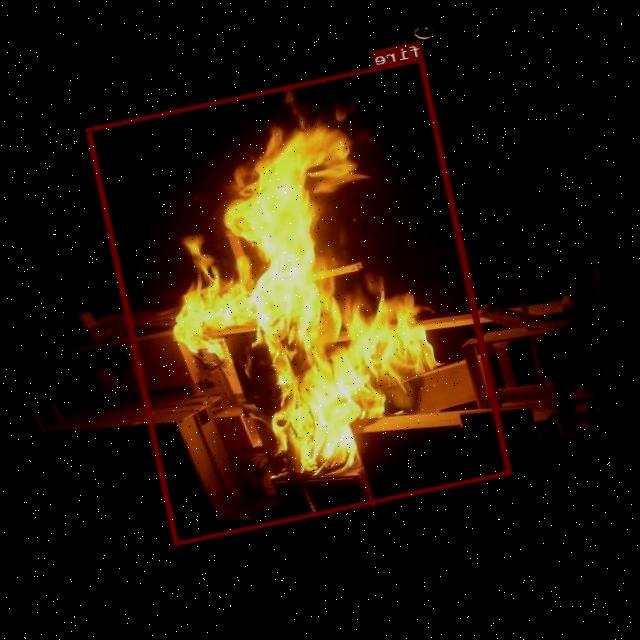fire: (86, 54, 513, 544)
